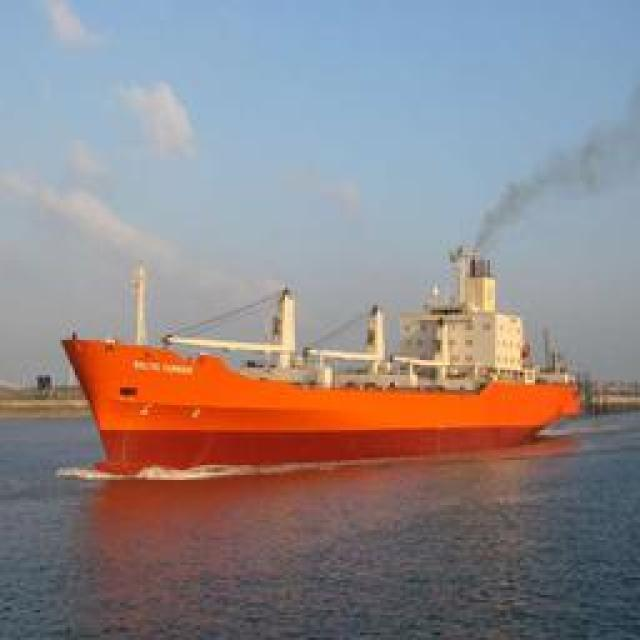ship2: (60, 249, 588, 479)
